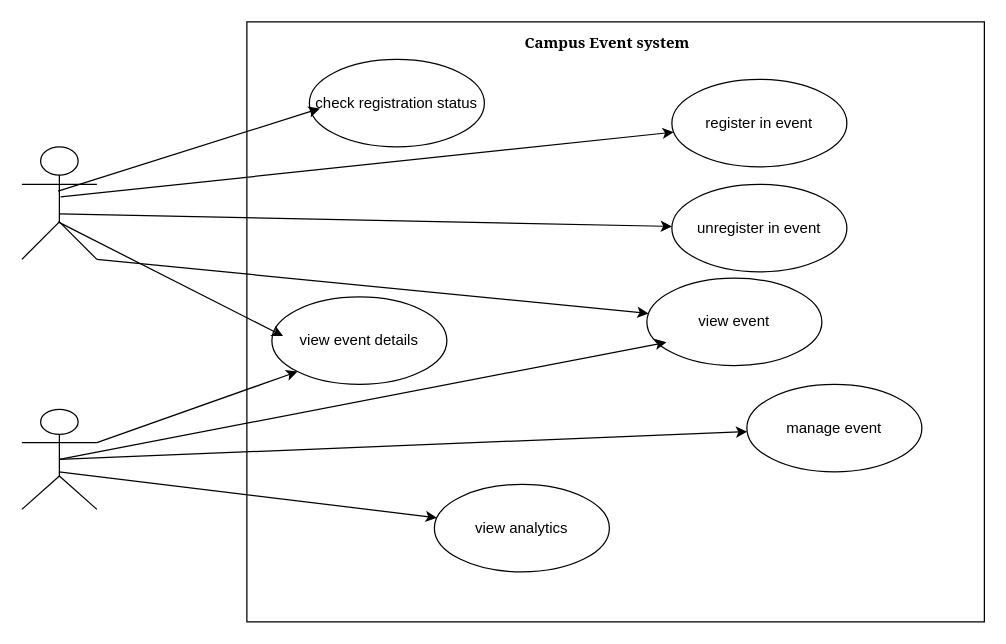
This 1006x644 diagram has some shape labels left out. The box of each missing label's shape, as (x1, y1, x2, y2) in pixels:
admin: (21, 408, 97, 509)
student: (21, 146, 97, 259)
